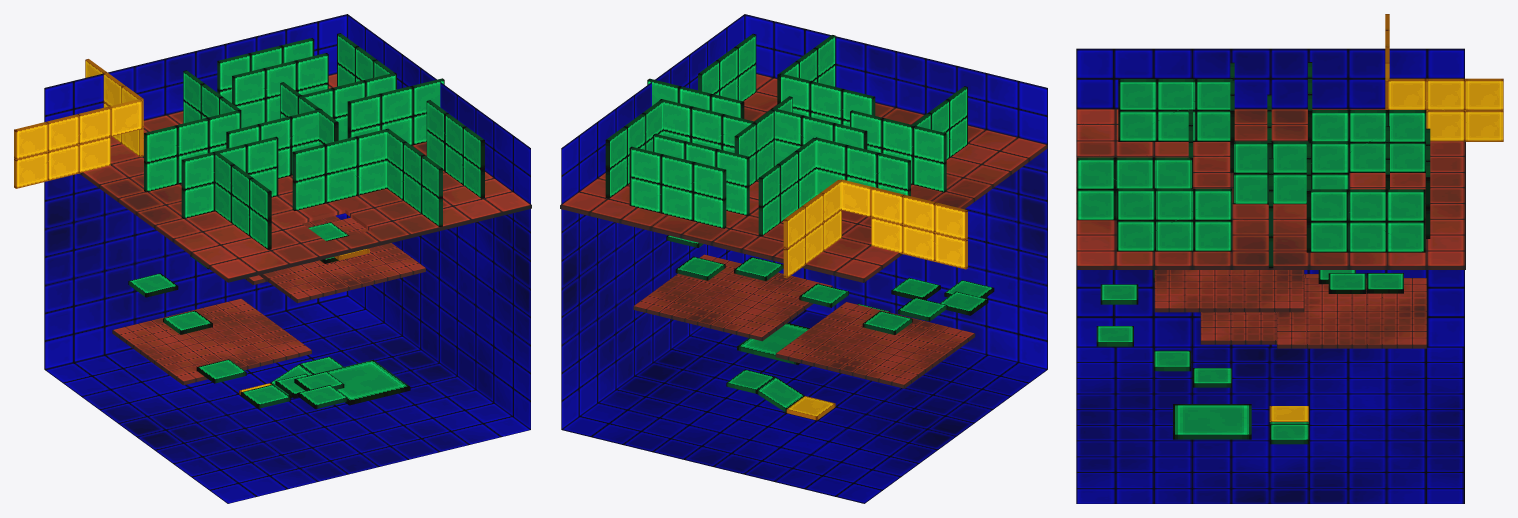
The picture shows the model from 3 angles, left to right: view 1: azimuth 30°, elevation 25°; view 2: azimuth 150°, elevation 25°; view 3: azimuth 270°, elevation 25°; orthographic projection. The views are drawn at different scales.
Parts seen in each view (by area): view 1: Box01; view 2: Box01; view 3: Box01.
Part boxes in pixels (x1,y1,x2,y2): Box01: [14, 14, 531, 503]; Box01: [560, 14, 1047, 503]; Box01: [1076, 14, 1503, 503].
Size of the model in its own units: 10809 by 7817 by 10110.
5 materials, 5 textured.
